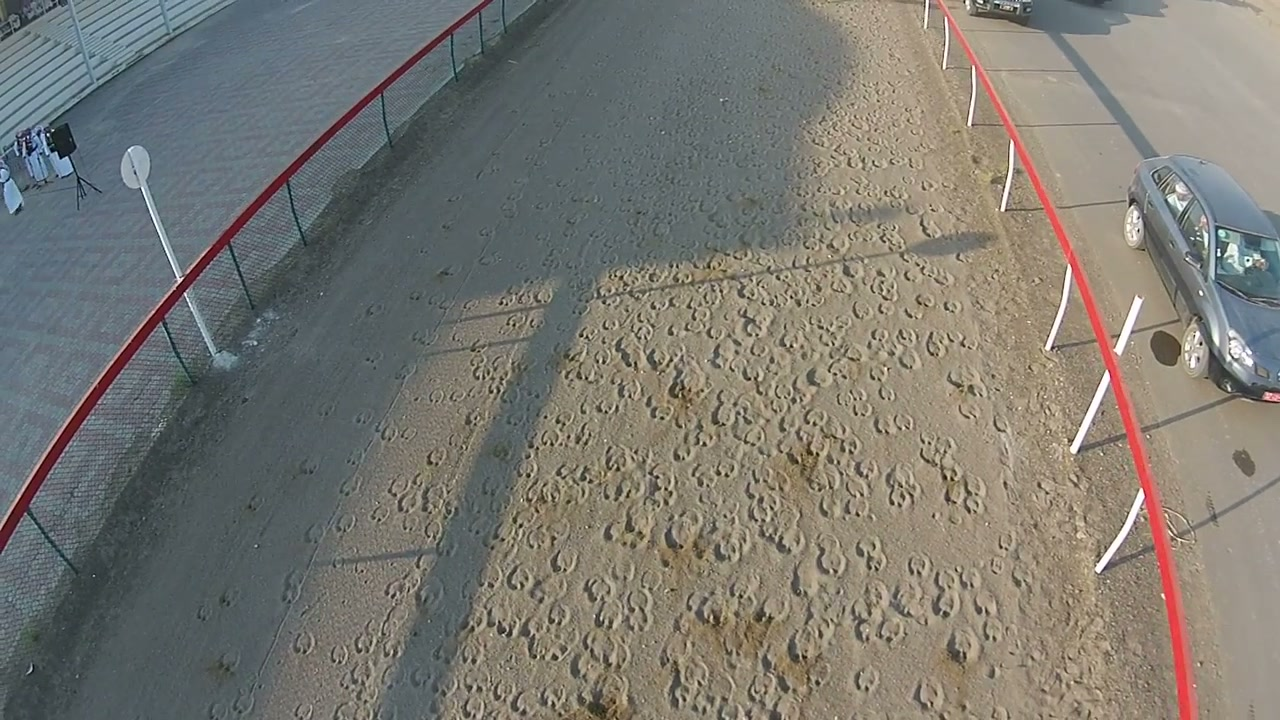animal_footprint: (173, 0, 1158, 719)
